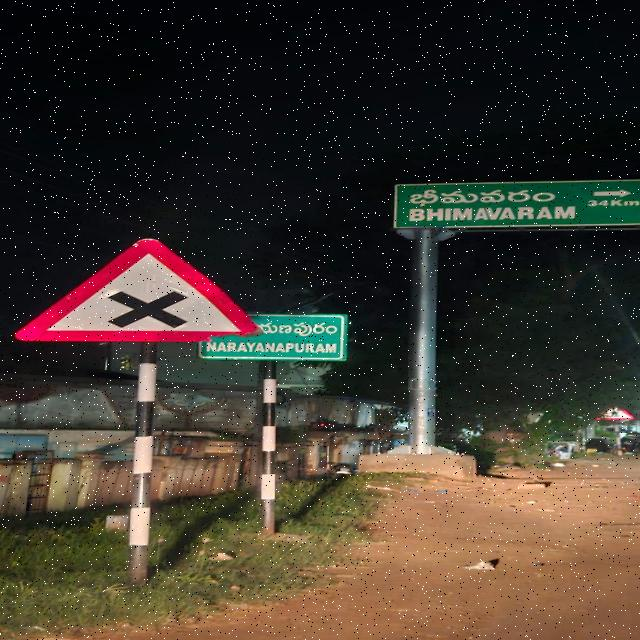Crossroads: (10, 227, 278, 350)
